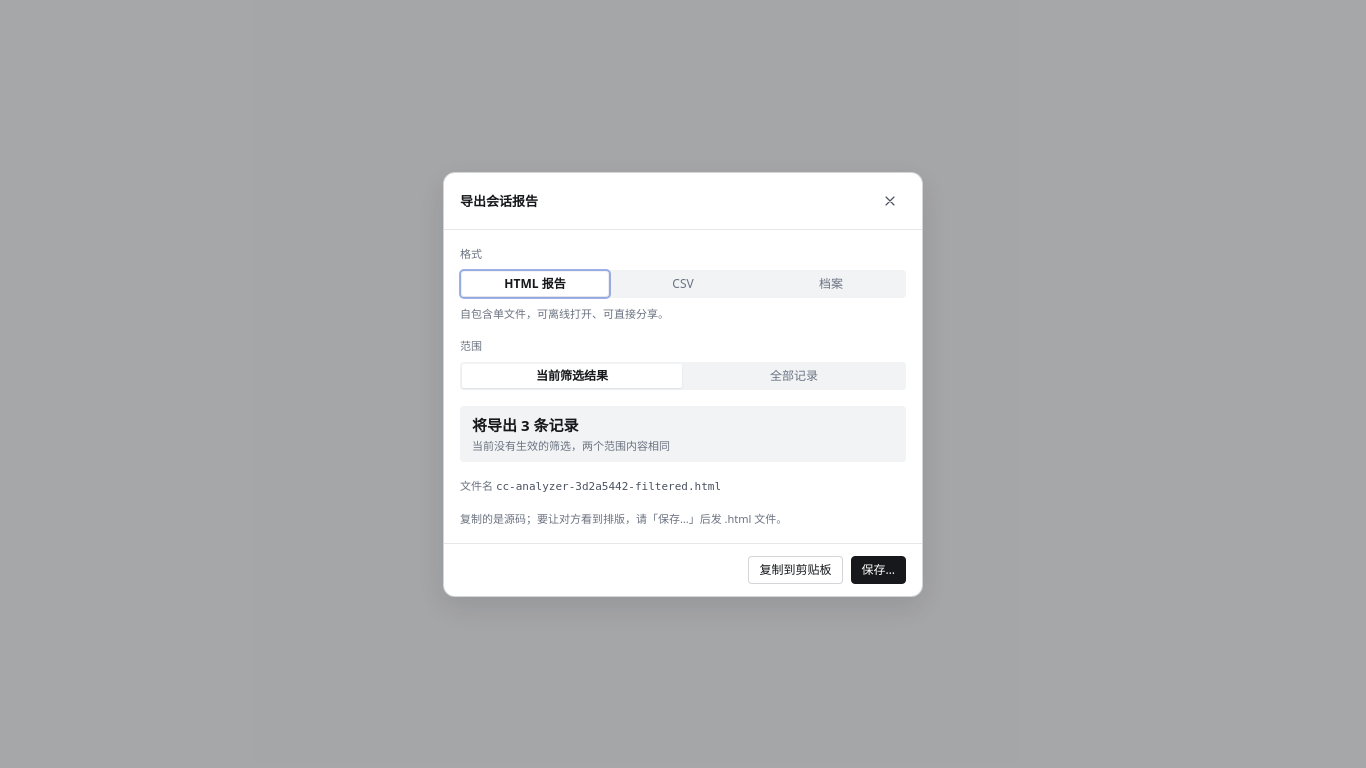
Test case: surfaces a clipboard failure in place
Click the button "复制到剪贴板": (796, 570) [748,556,842,584]
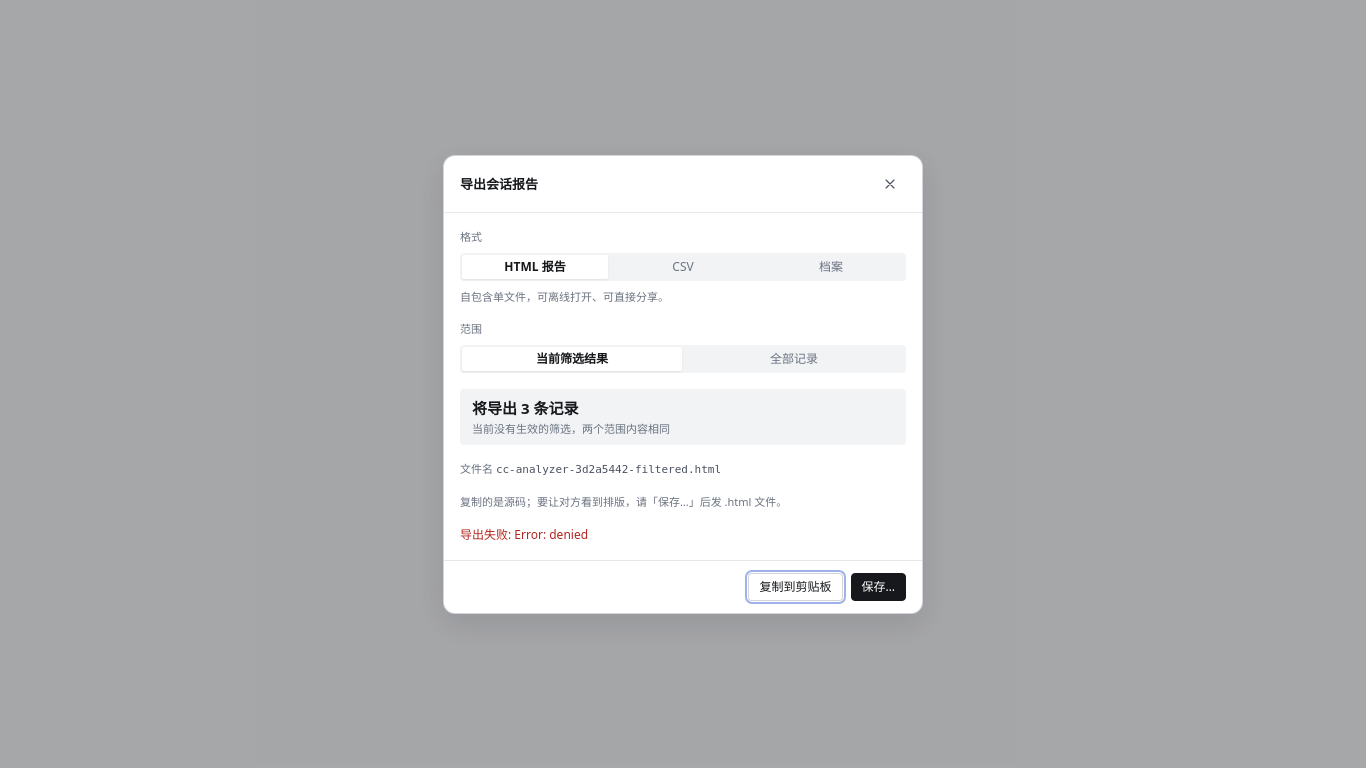
Check: the dialog is shown, box [443,154,923,614]
Check: the message "导出失败: Error: denied" is shown, box [460,526,588,542]
